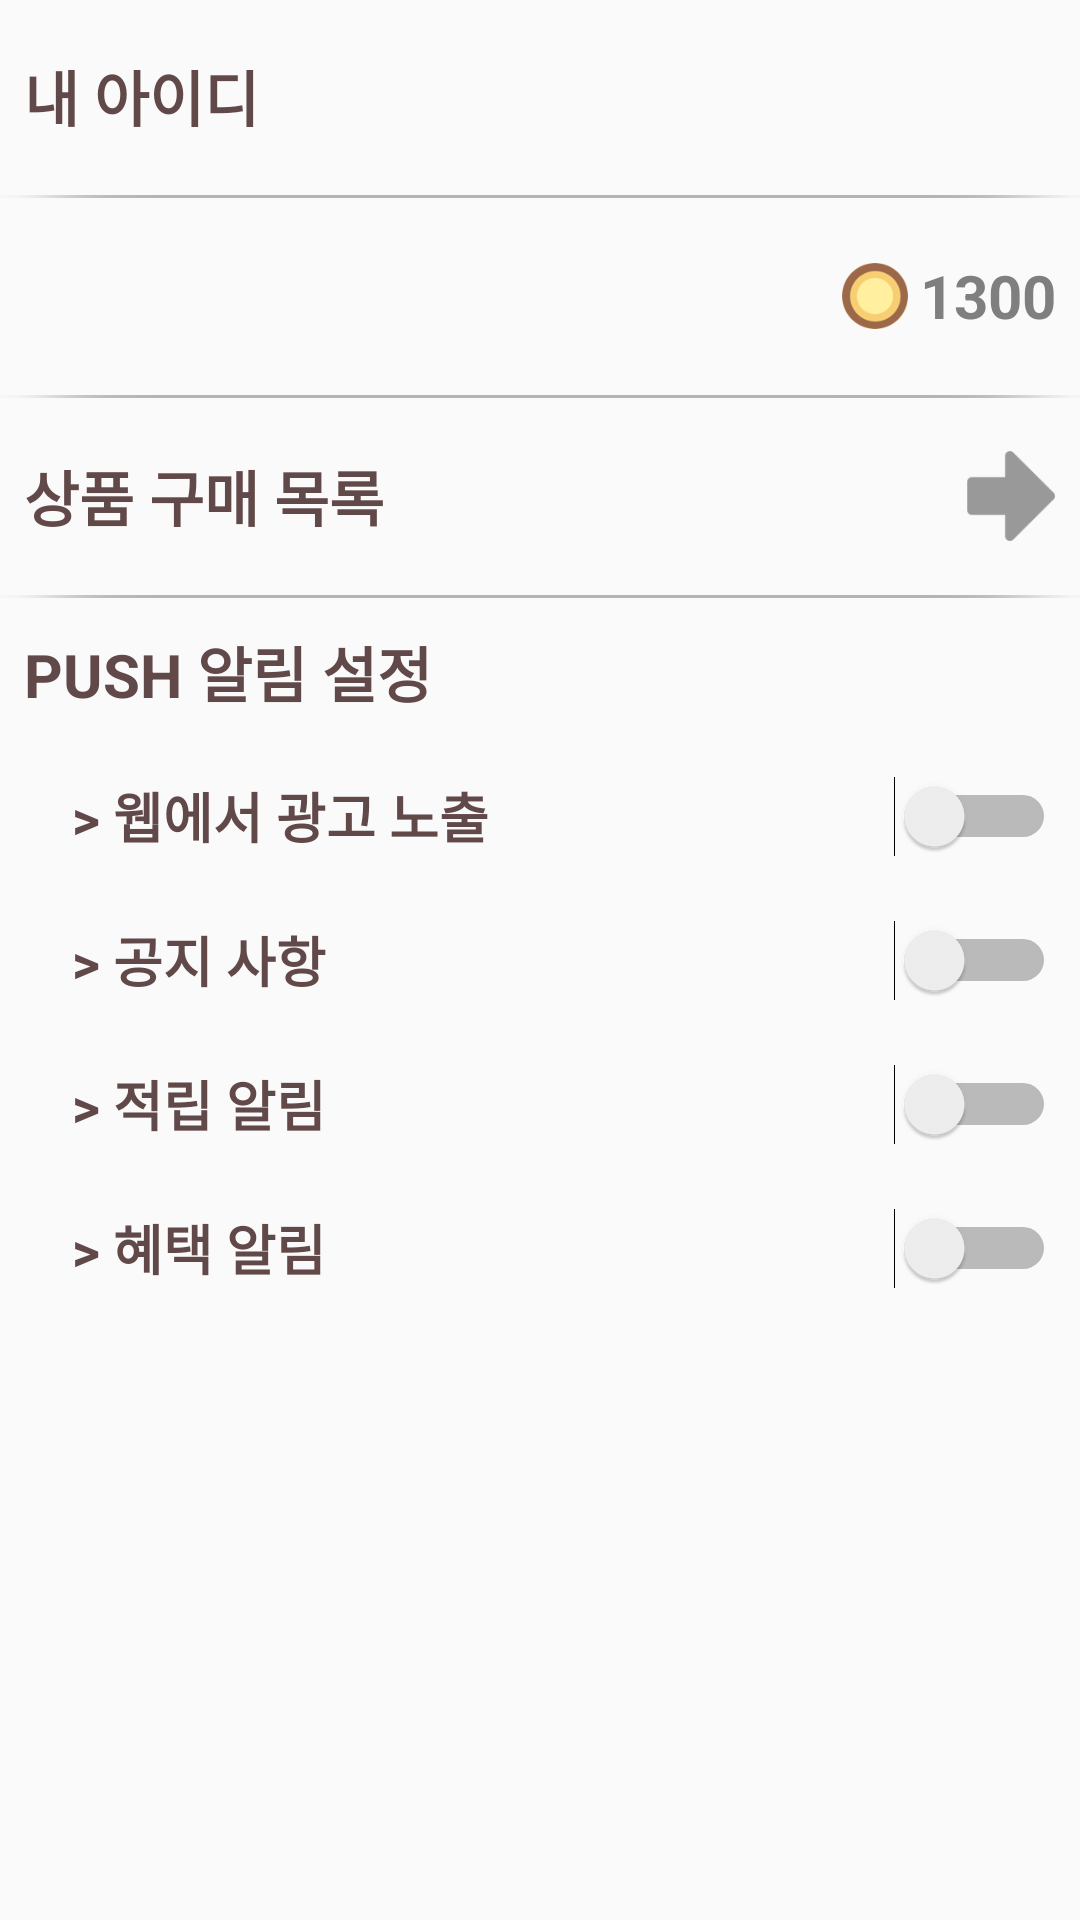

Icons on this 1080*1920 Android screen, each with its box as (x1, y1, x2, y2):
coin: (842, 263, 908, 329)
forward: (967, 451, 1055, 541)
